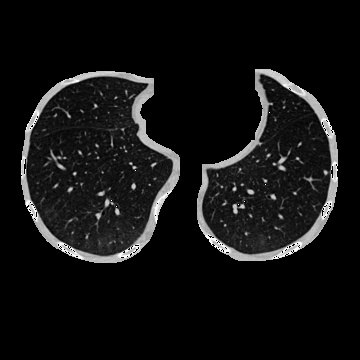PN: (323, 170, 327, 174)
